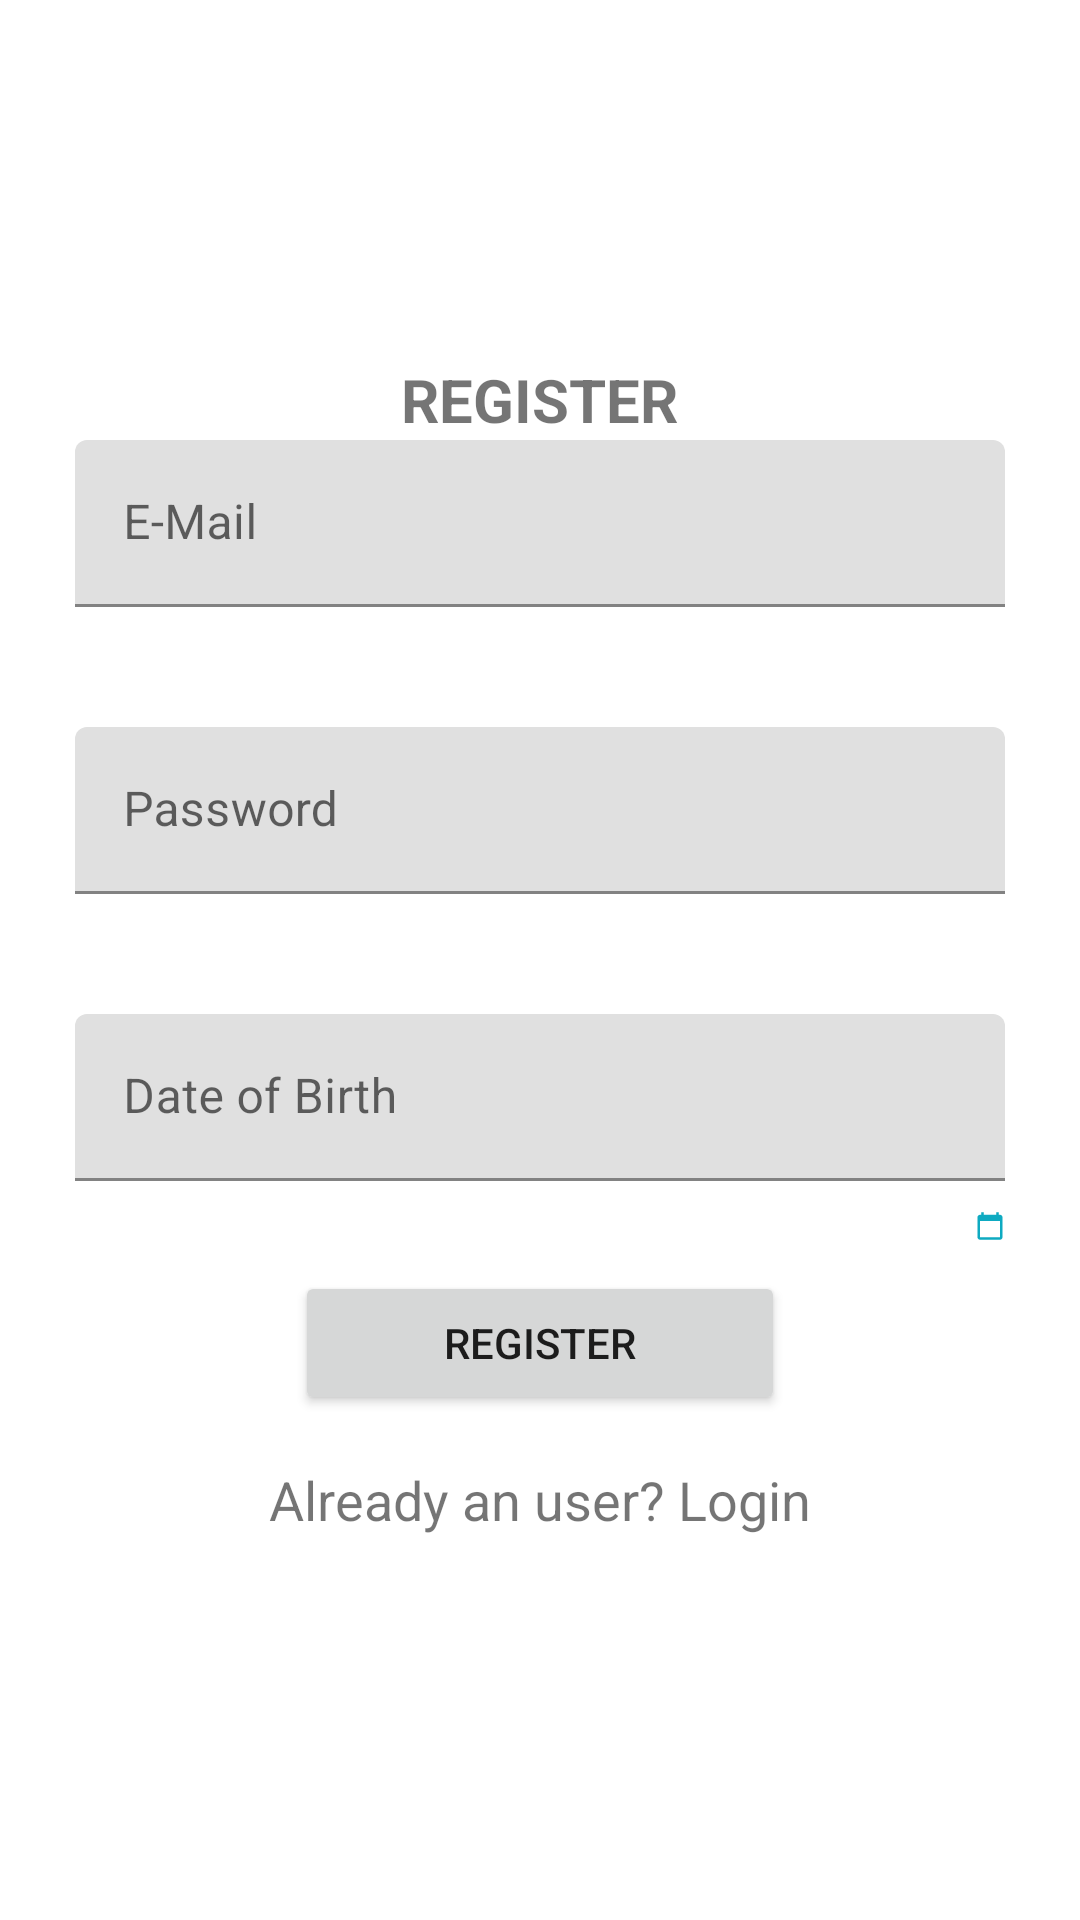

Icons on this 1080w x 1920h Android screen, each with the point to tap as (x=x, y=y):
calender: (x=990, y=1226)
